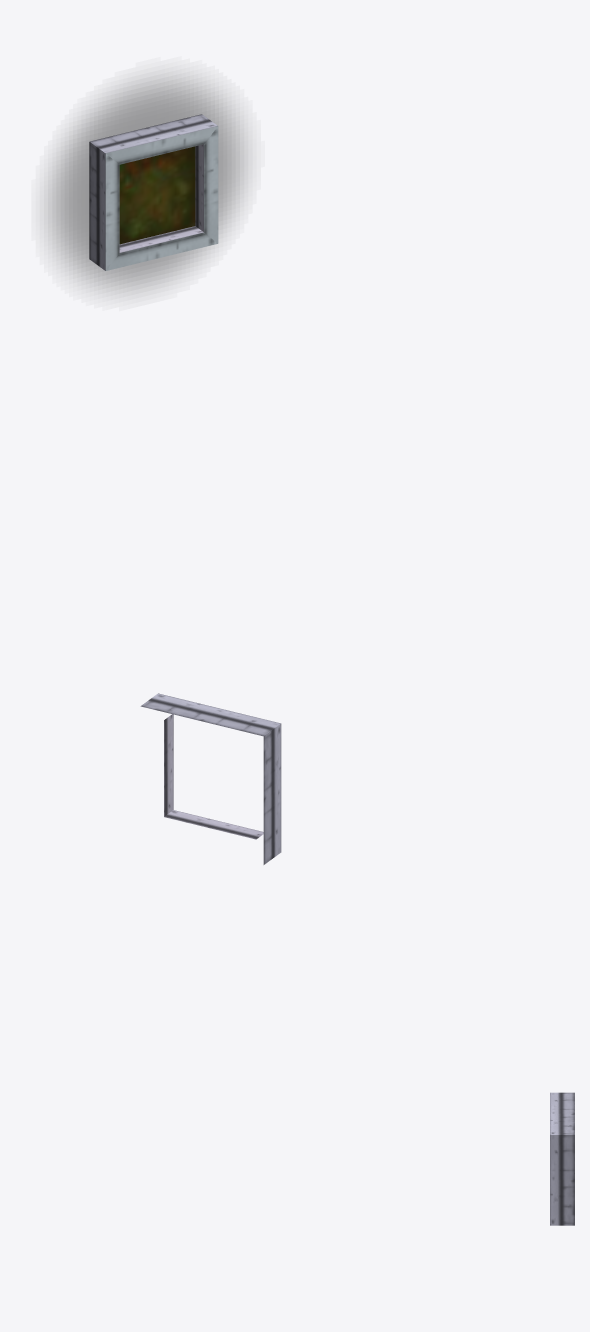
The model's file is prop_snow_tree_large_brickbox_ul.glb.
3 renders of one model, top to bottom at view 1: azimuth 30°, elevation 25°; view 2: azimuth 150°, elevation 25°; view 3: azimuth 270°, elevation 25°, orthographic. The views are drawn at different scales.
Parts seen in each view (by area): view 1: tree_box_planter_bricks, shadow_snow_tree_large_brickbox_ul; view 2: tree_box_planter_bricks; view 3: tree_box_planter_bricks.
Part boxes in pixels (<box>): tree_box_planter_bricks: <box>89,114,218,270</box>; shadow_snow_tree_large_brickbox_ul: <box>48,76,244,292</box>; tree_box_planter_bricks: <box>140,693,281,864</box>; tree_box_planter_bricks: <box>550,1092,574,1225</box>.
Size of the model in its own units: 13.97 by 12.32 by 29.17.
Materials: 4 (4 with a texture image).
